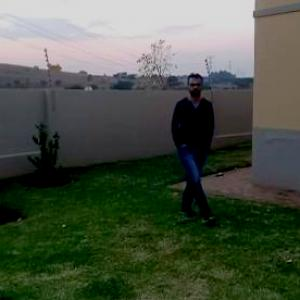follow: (170, 71, 218, 212)
